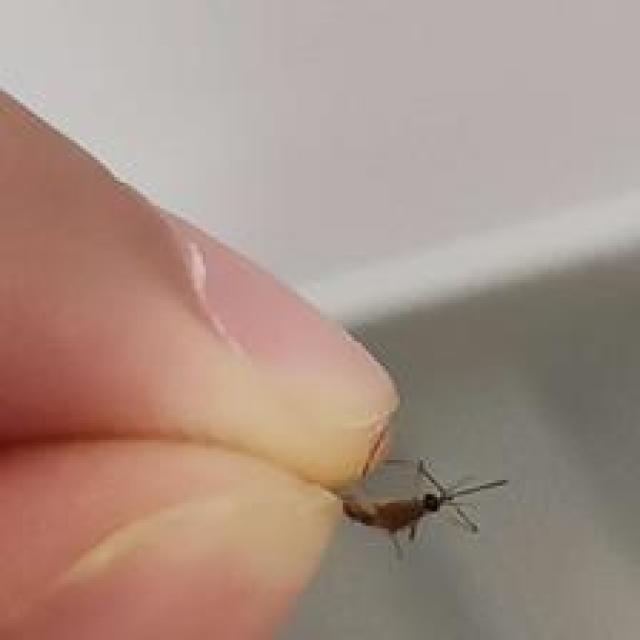Culex: (337, 454, 509, 560)
